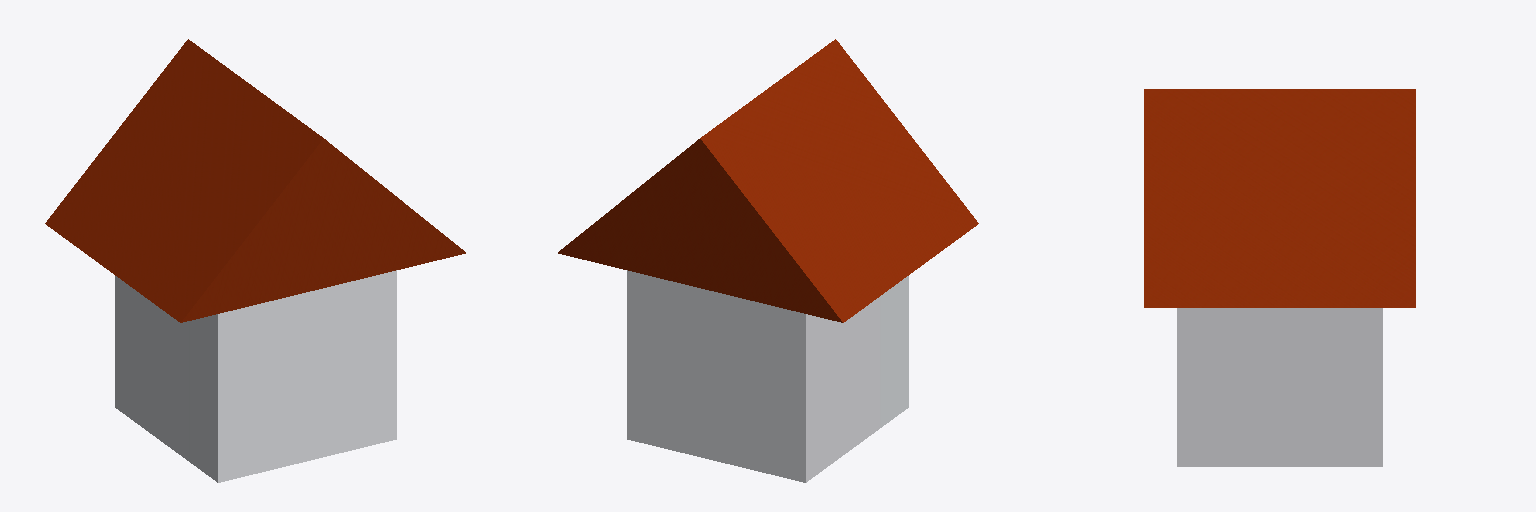
3 renders of one model, left to right at view 1: azimuth 30°, elevation 25°; view 2: azimuth 150°, elevation 25°; view 3: azimuth 270°, elevation 25°, orthographic.
Visible parts, largest first — view 1: Cube, 立方体; view 2: Cube, 立方体; view 3: Cube, 立方体.
Boxes of the visible parts, x1=… form: Cube: x1=45, y1=39, x2=465, y2=322; 立方体: x1=115, y1=270, x2=396, y2=482; Cube: x1=558, y1=39, x2=978, y2=322; 立方体: x1=627, y1=270, x2=908, y2=482; Cube: x1=1144, y1=89, x2=1415, y2=307; 立方体: x1=1177, y1=308, x2=1382, y2=466.
Bounding box in the file's own units: 1.75 × 1.96 × 1.44.
2 materials, 2 textured.